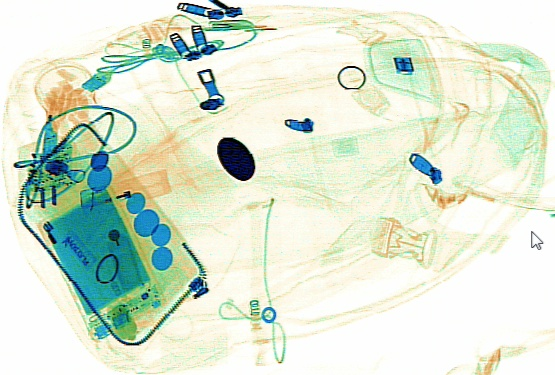lighter: (76, 166, 172, 214)
